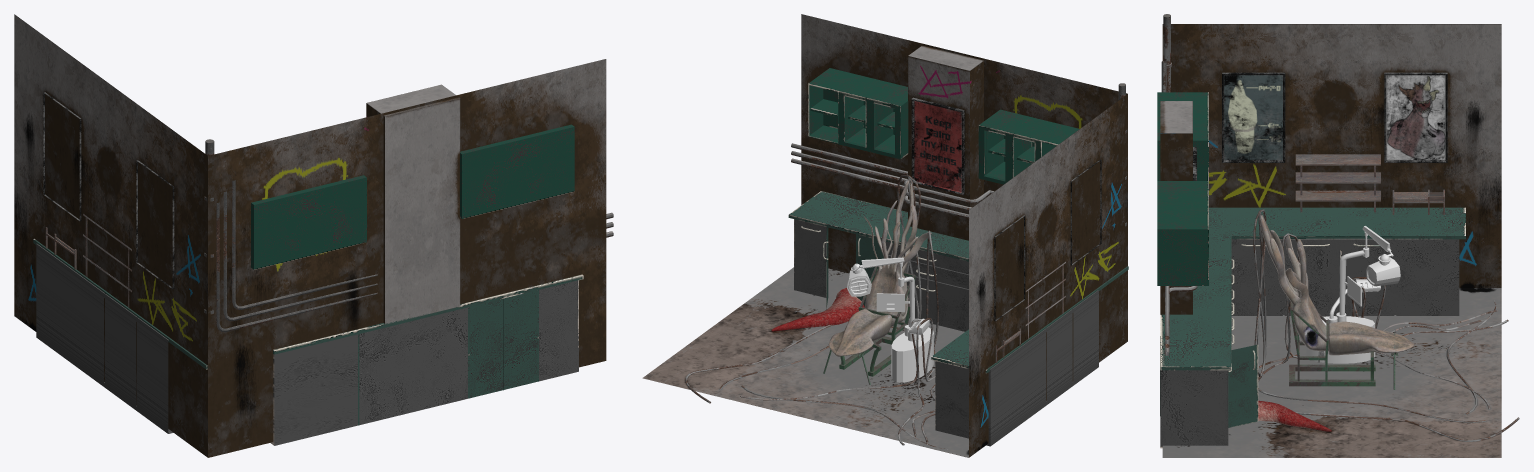
The model's file is Dentsadsaist.fbx.
3 renders of one model, left to right at view 1: azimuth 30°, elevation 25°; view 2: azimuth 150°, elevation 25°; view 3: azimuth 270°, elevation 25°, orthographic. The views are drawn at different scales.
Parts seen in each view (by area): view 1: Kasten.001, Kasten.006, Kasten.003, Kasten.005, Kasten.002, Kasten.004; view 2: Kasten.001, Kasten.003, Kasten.002, Kasten.006, Kasten.005, Kasten.004; view 3: Kasten.001, Kasten.002, Kasten.003, Kasten.004, Kasten.006, Kasten.005.
Part boxes in pixels (<box>): Kasten.001: <box>14,14,606,457</box>; Kasten.006: <box>251,175,366,269</box>; Kasten.003: <box>460,124,574,218</box>; Kasten.005: <box>204,139,613,332</box>; Kasten.002: <box>43,92,174,289</box>; Kasten.004: <box>45,214,131,307</box>; Kasten.001: <box>642,14,1128,457</box>; Kasten.003: <box>808,68,908,159</box>; Kasten.002: <box>911,97,1101,321</box>; Kasten.006: <box>978,109,1079,184</box>; Kasten.005: <box>791,83,1126,226</box>; Kasten.004: <box>995,261,1065,362</box>; Kasten.001: <box>1160,24,1519,457</box>; Kasten.002: <box>1193,72,1447,180</box>; Kasten.003: <box>1157,181,1208,285</box>; Kasten.004: <box>1295,154,1444,214</box>; Kasten.006: <box>1157,92,1208,180</box>; Kasten.005: <box>1161,14,1197,355</box>.
Size of the model in its own units: 551 by 448 by 484.
